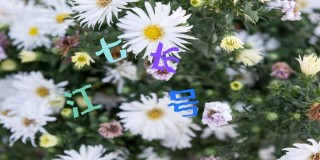七: (94, 35, 126, 63)
号: (166, 86, 200, 117)
江: (61, 84, 102, 119)
长: (152, 42, 180, 74)
